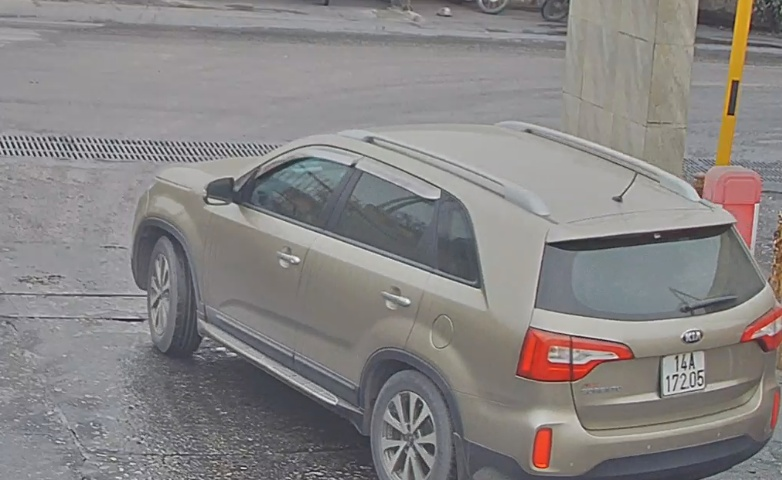vehicle plate: (659, 349, 710, 394)
